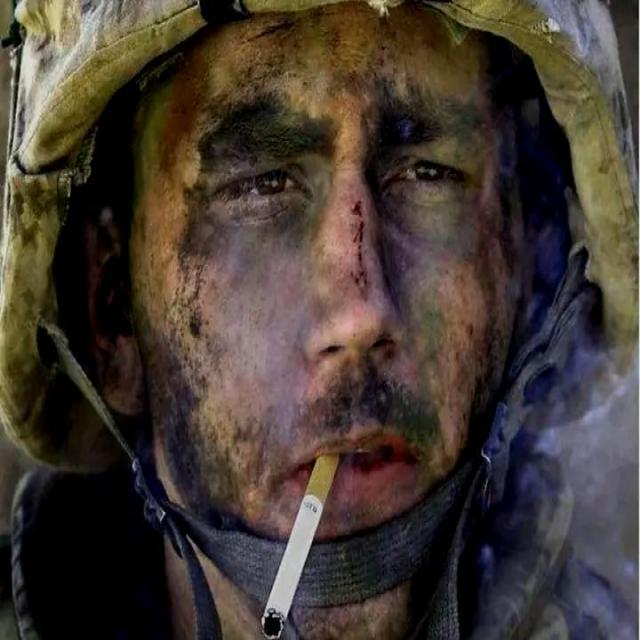cigarette: (244, 381, 378, 639)
